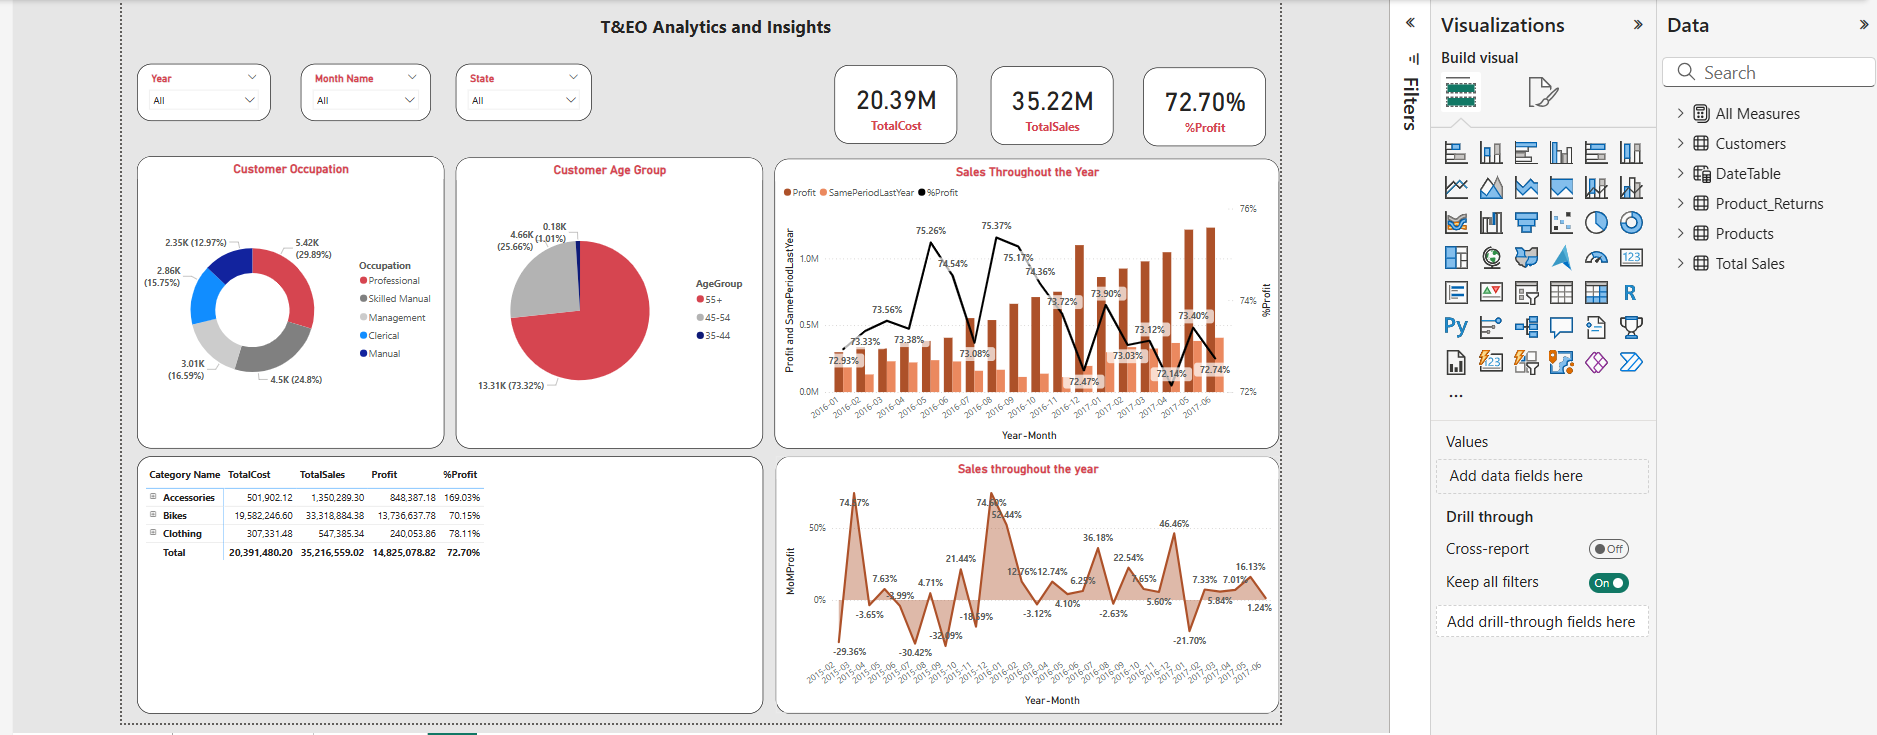

Layout of this report page (visuals, bound fields, positions):
{"tool":"powerbi","page":{"name":"DASHBOARD","canvas":[1600,1000],"ordinal":0},"visuals":[{"type":"textbox","box":[649.6,15.5,437.1,72.6],"z":0},{"type":"slicer","fields":{"Values":["DateTable.Year"]},"box":[20.7,88.1,184.9,79.5],"z":1000},{"type":"slicer","fields":{"Values":["Total Sales.State"]},"box":[461.3,88.1,188.3,79.5],"z":2000},{"type":"slicer","fields":{"Values":["DateTable.Month Name"]},"box":[247.1,88.1,179.7,79.5],"z":3000},{"type":"card","fields":{"Values":["All Measures.TotalCost"]},"box":[984.8,89.8,169.3,108.8],"z":4000},{"type":"card","fields":{"Values":["All Measures.%Profit"]},"box":[1411.5,93.3,169.3,108.8],"z":5000},{"type":"card","fields":{"Values":["All Measures.TotalSales"]},"box":[1200.8,91.6,169.3,108.8],"z":6000},{"type":"donutChart","title":"Customer Occupation","fields":{"Category":["Customers.Occupation"],"Y":["CountNonNull(Customers.CustomerKey)"]},"box":[20.7,216,425,404.3],"z":7000},{"type":"pieChart","title":"Customer Age Group","fields":{"Category":["Customers.AgeGroup"],"Y":["CountNonNull(Customers.CustomerKey)"]},"box":[461.3,217.7,425,402.6],"z":8000},{"type":"lineClusteredColumnComboChart","title":"Sales Throughout the Year","fields":{"Category":["DateTable.Year-Month"],"Y2":["All Measures.%Profit"],"Y":["All Measures.Profit","All Measures.SamePeriodLastYear"]},"box":[901.9,219.4,698,400.8],"z":9000},{"type":"pivotTable","fields":{"Rows":["Products.Category Name","Products.Sub Category Name","Products.ProductName","Products.ModelName"],"Values":["All Measures.TotalCost","All Measures.TotalSales","All Measures.Profit","All Measures.%Profit"]},"box":[20.7,630.6,865.6,355.9],"z":10000},{"type":"areaChart","title":"Sales throughout the year","fields":{"Y":["All Measures.MoMProfit"],"Category":["DateTable.Year-Month"]},"box":[903.6,630.6,696.3,355.9],"z":11000}]}

Visuals, with their boxes on the page's 1600x1000 design canvas (x1, y1, x2, y2). These are canvas units, not pixel positions in the 1877x735 screenshot, which may show the page scaled, cropped or inside an application window:
textbox: rect(650, 16, 1087, 88)
slicer - DateTable.Year: rect(21, 88, 206, 168)
slicer - Total Sales.State: rect(461, 88, 650, 168)
slicer - DateTable.Month Name: rect(247, 88, 427, 168)
card - All Measures.TotalCost: rect(985, 90, 1154, 199)
card - All Measures.%Profit: rect(1412, 93, 1581, 202)
card - All Measures.TotalSales: rect(1201, 92, 1370, 200)
"Customer Occupation" donutChart: rect(21, 216, 446, 620)
"Customer Age Group" pieChart: rect(461, 218, 886, 620)
"Sales Throughout the Year" lineClusteredColumnComboChart: rect(902, 219, 1600, 620)
pivotTable - Products.Category Name x Products.Sub Category Name: rect(21, 631, 886, 986)
"Sales throughout the year" areaChart: rect(904, 631, 1600, 986)
